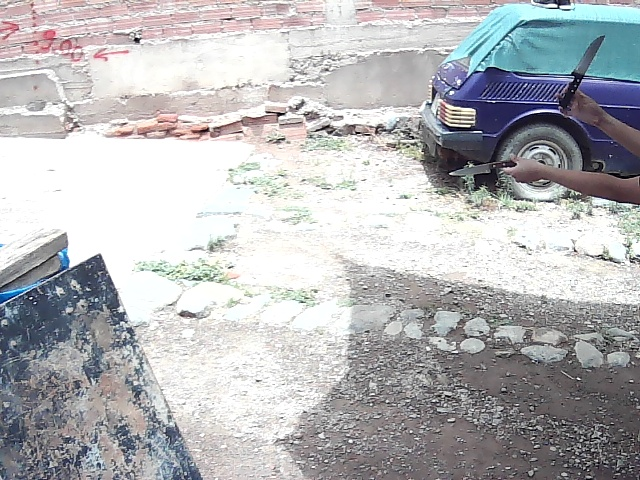cuchillo: (563, 29, 608, 93), (445, 156, 510, 179)
